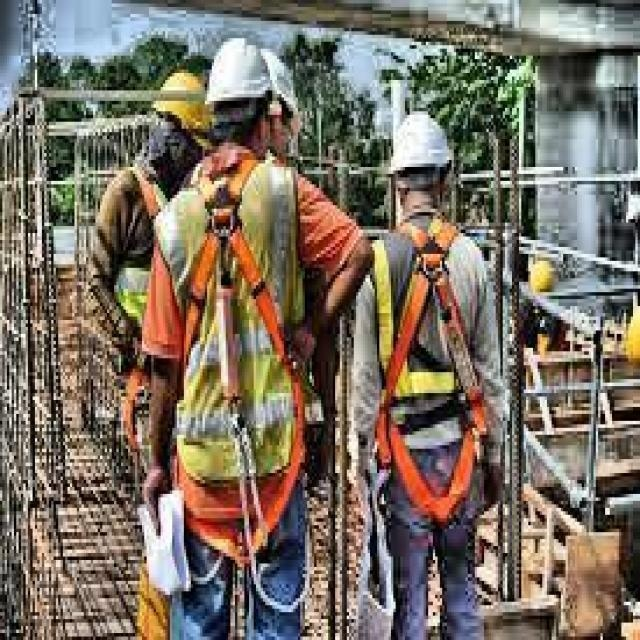Arnes_seguridad: (372, 217, 490, 526), (180, 165, 308, 446)
